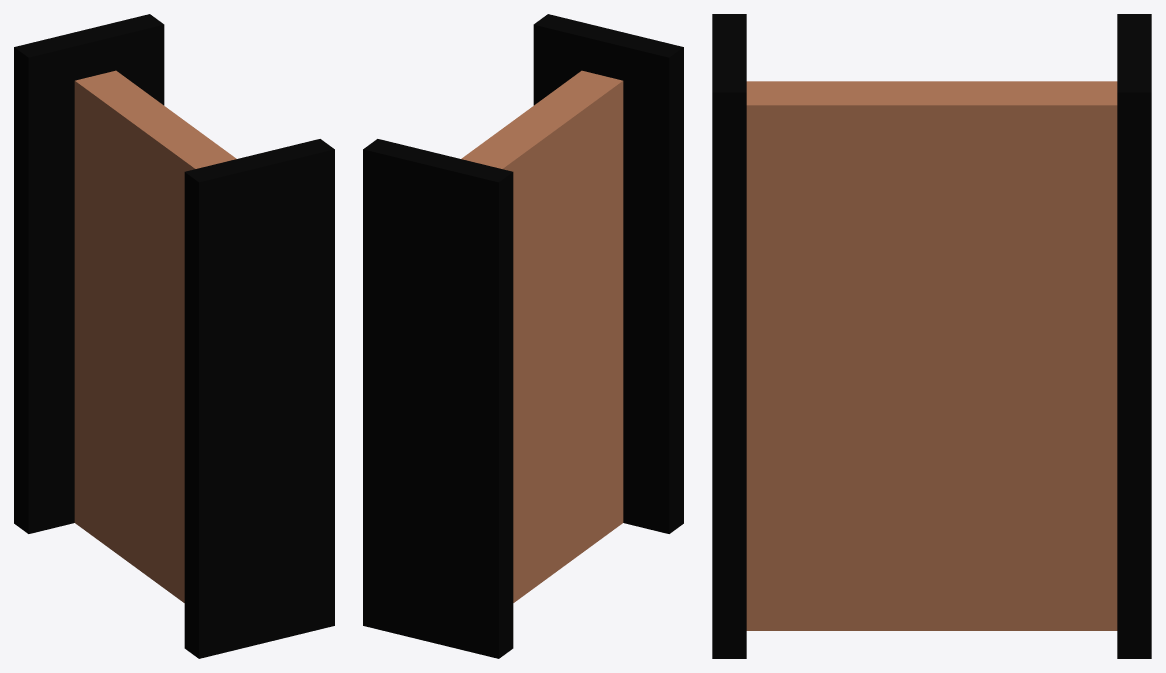
The model's file is Rails.fbx.
The picture shows the model from 3 angles, left to right: view 1: azimuth 30°, elevation 25°; view 2: azimuth 150°, elevation 25°; view 3: azimuth 270°, elevation 25°; orthographic projection. The views are drawn at different scales.
Visible parts, largest first — view 1: Cube.012; view 2: Cube.012; view 3: Cube.012.
Part boxes in pixels (left/top/right/bottom): Cube.012: left=14, top=14, right=334, bottom=658; Cube.012: left=363, top=14, right=683, bottom=658; Cube.012: left=712, top=14, right=1151, bottom=658.
Size of the model in its own units: 62.83 by 211 by 148.
